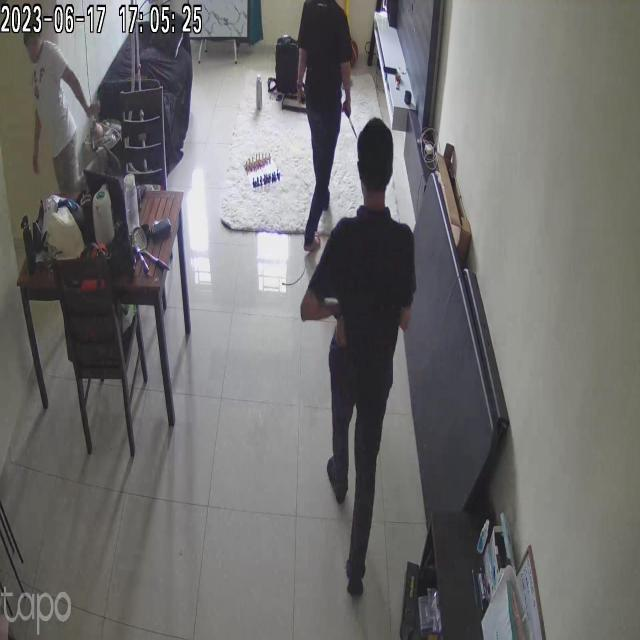Knife: (344, 102, 361, 136)
